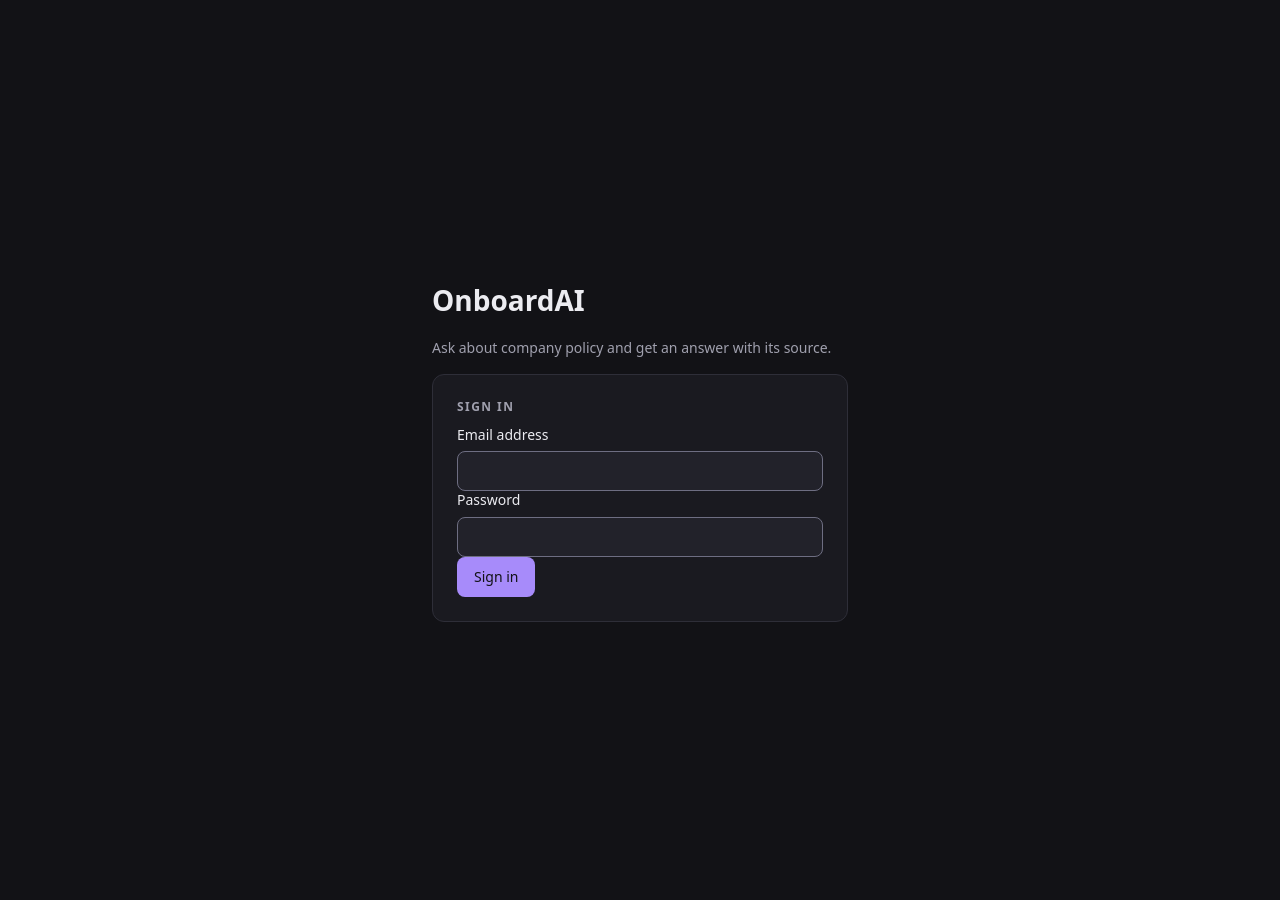
Scenario: signing in › lands on the chat page
Step 1. Type "employee@onboardai.example" into the field labelled "Email address" → (640, 471), box x1=457 y1=451 x2=823 y2=491
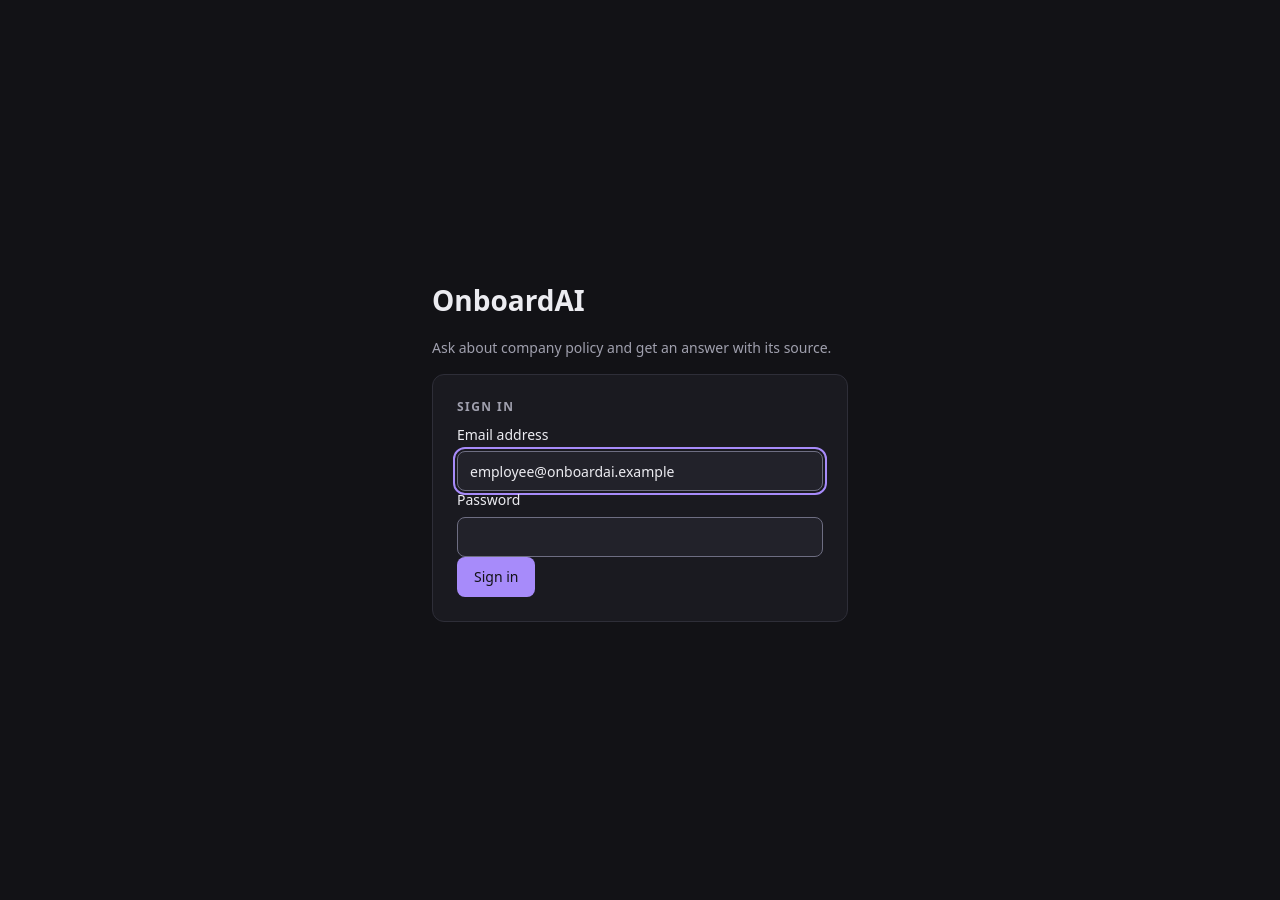
Step 2. Type "a development password" into the password field labelled "Password" → (640, 536), box x1=457 y1=516 x2=823 y2=556
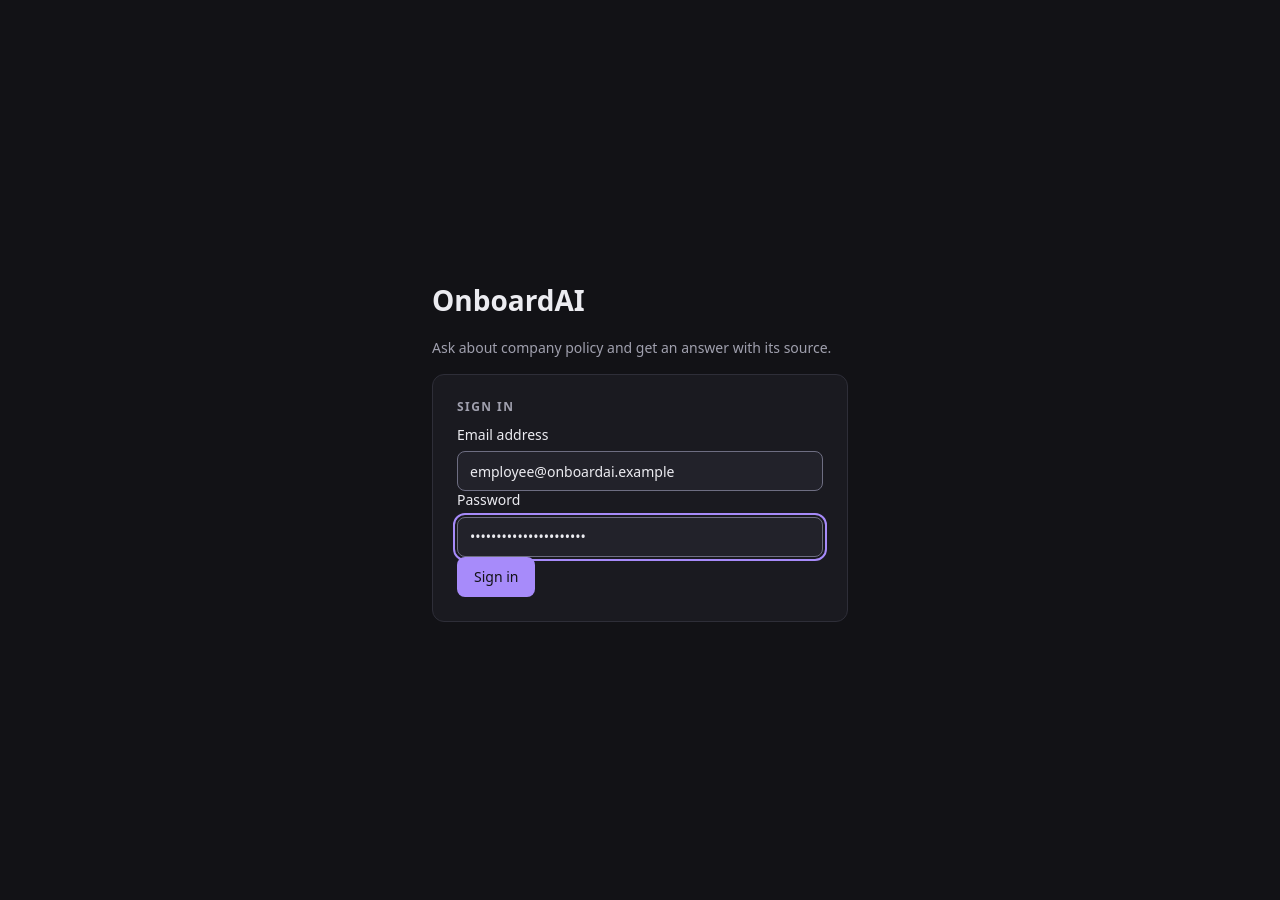
Step 3. Click the button "Sign in" → (496, 576), box x1=457 y1=556 x2=536 y2=596
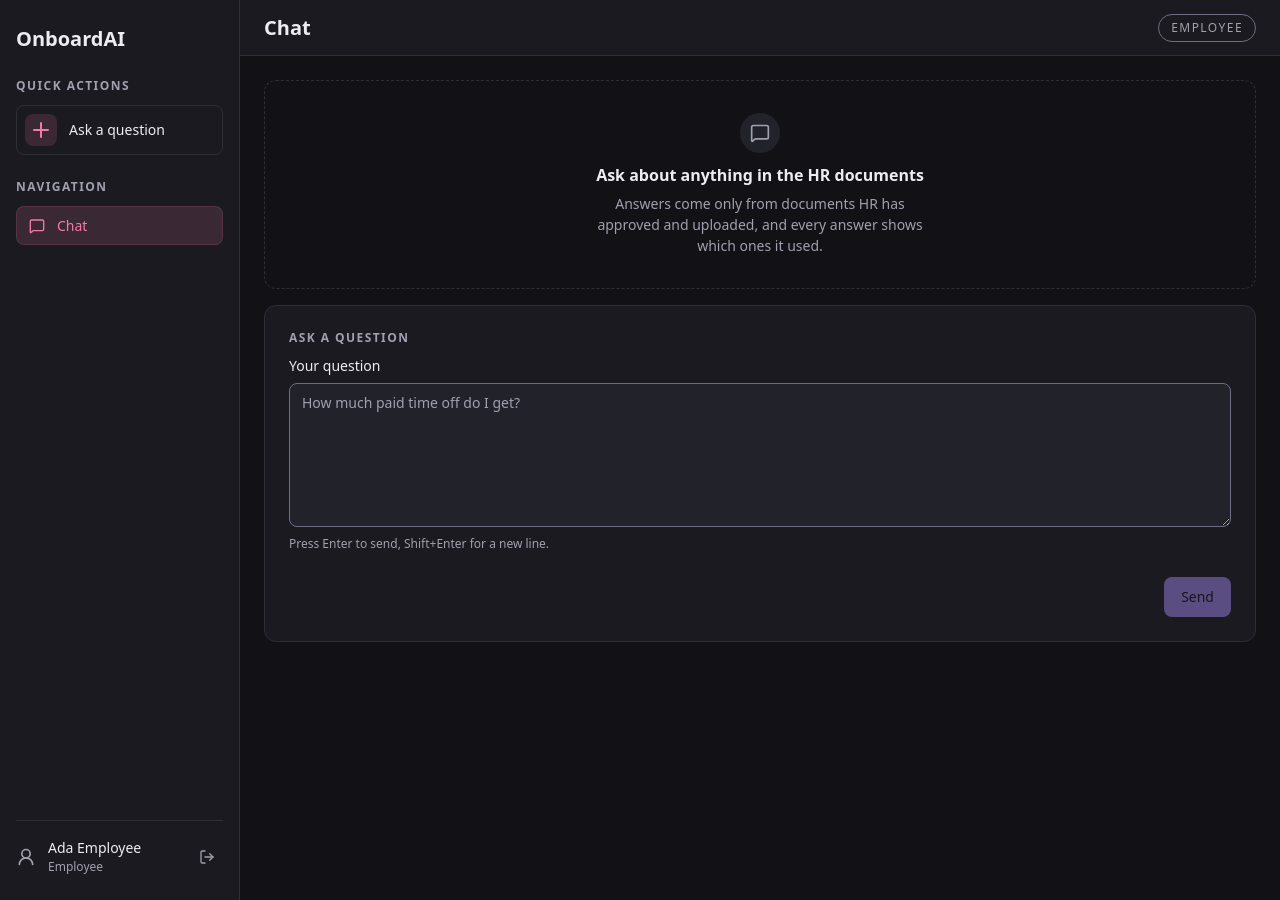
Result: the heading "Chat" is shown at x1=264 y1=15 x2=311 y2=40
